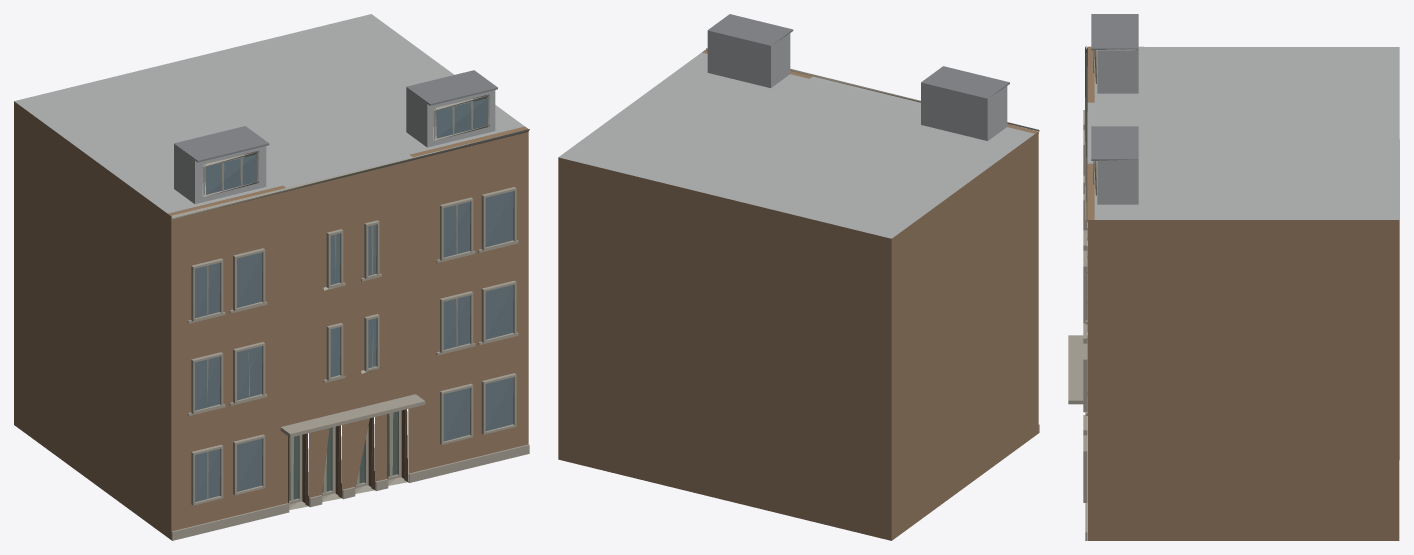
File: chunk-face-haen-3-31-r1.lod2.glb
3 renders of one model, left to right at view 1: azimuth 30°, elevation 25°; view 2: azimuth 150°, elevation 25°; view 3: azimuth 270°, elevation 25°, orthographic. The views are drawn at different scales.
Visible parts, largest first — view 1: lod2; view 2: lod2; view 3: lod2.
Part boxes in pixels (x1=…): lod2: x1=14, y1=14, x2=529, y2=540; lod2: x1=558, y1=14, x2=1039, y2=540; lod2: x1=1068, y1=14, x2=1399, y2=540.
Size of the model in its own units: 12.8 by 12.69 by 10.35.
